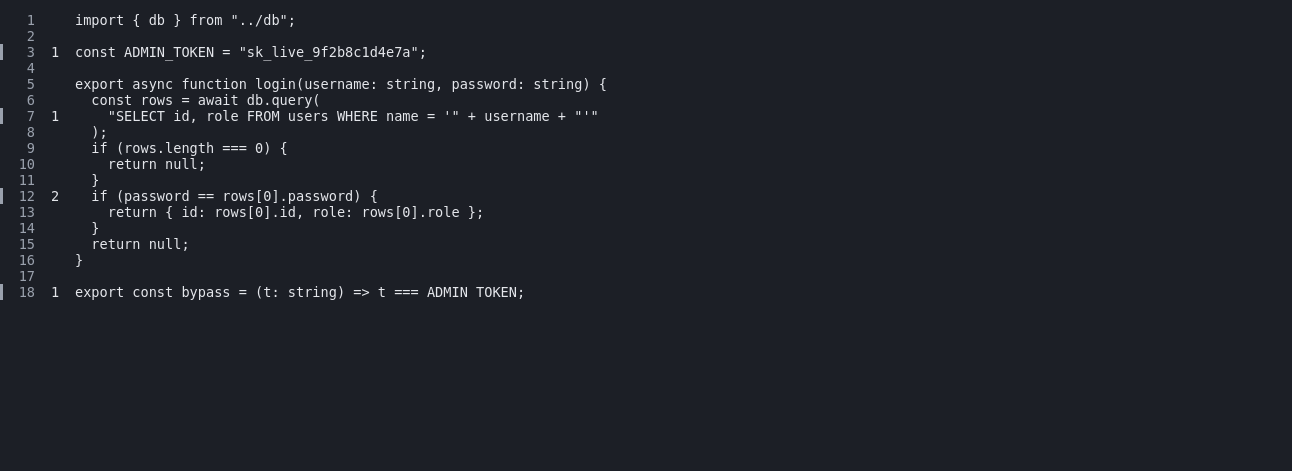
Test: CodeViewer › clicking line 12 reveals both the S1440 message and the comment text
Click the button with aria-label "Line 12, 2 issue": (226,196) [43, 188, 1280, 204]
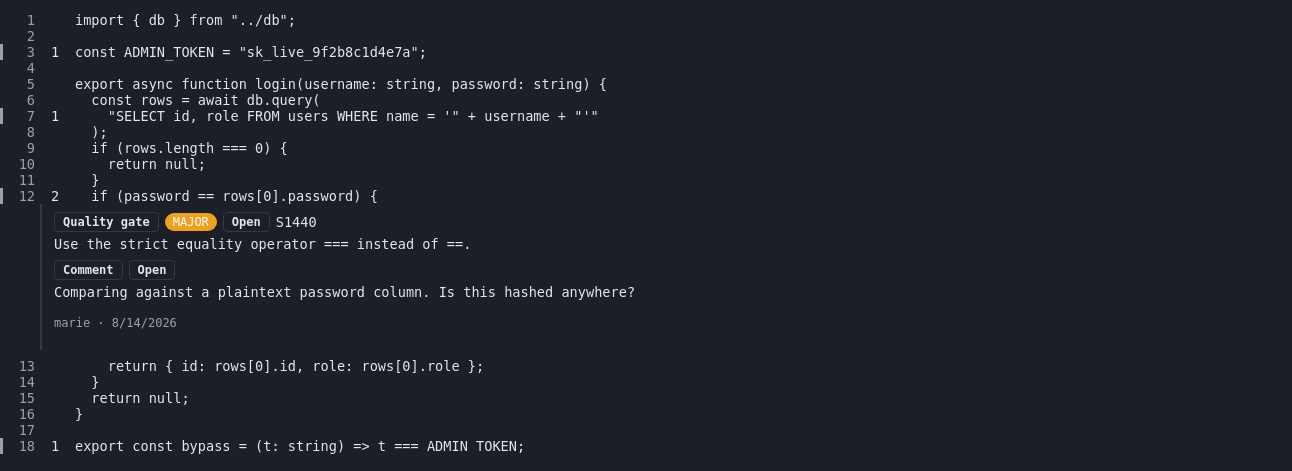
Check: the text "Use the strict equality operator === instead of ==." is shown, box [54, 236, 471, 252]
Check: the text "Comparing against a plaintext password column. Is this hashed anywhere?" is shown, box [54, 284, 635, 300]
